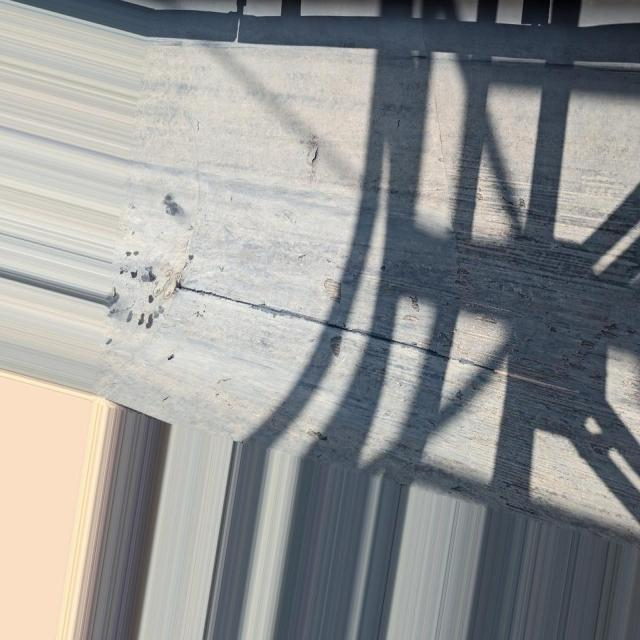Tear: (183, 281, 457, 365), (322, 277, 344, 304), (308, 142, 324, 169)
patch work: (151, 263, 188, 299)
